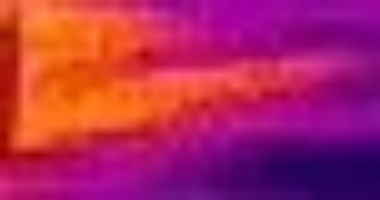Shadow: (136, 1, 380, 141), (1, 139, 380, 200)
